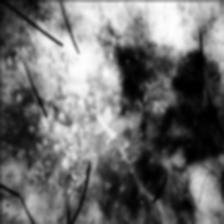Potentially Malignant Skin Tumors: (115, 35, 224, 167)
